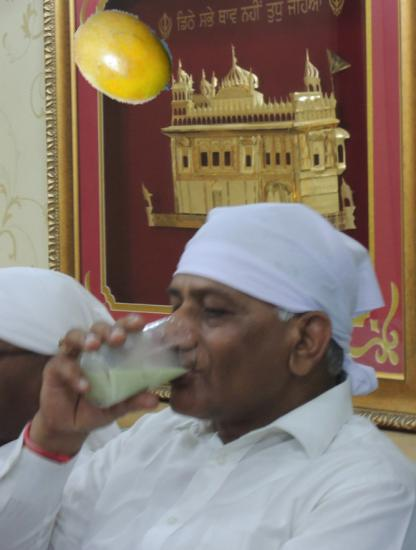Maracuja: (70, 2, 180, 112)
